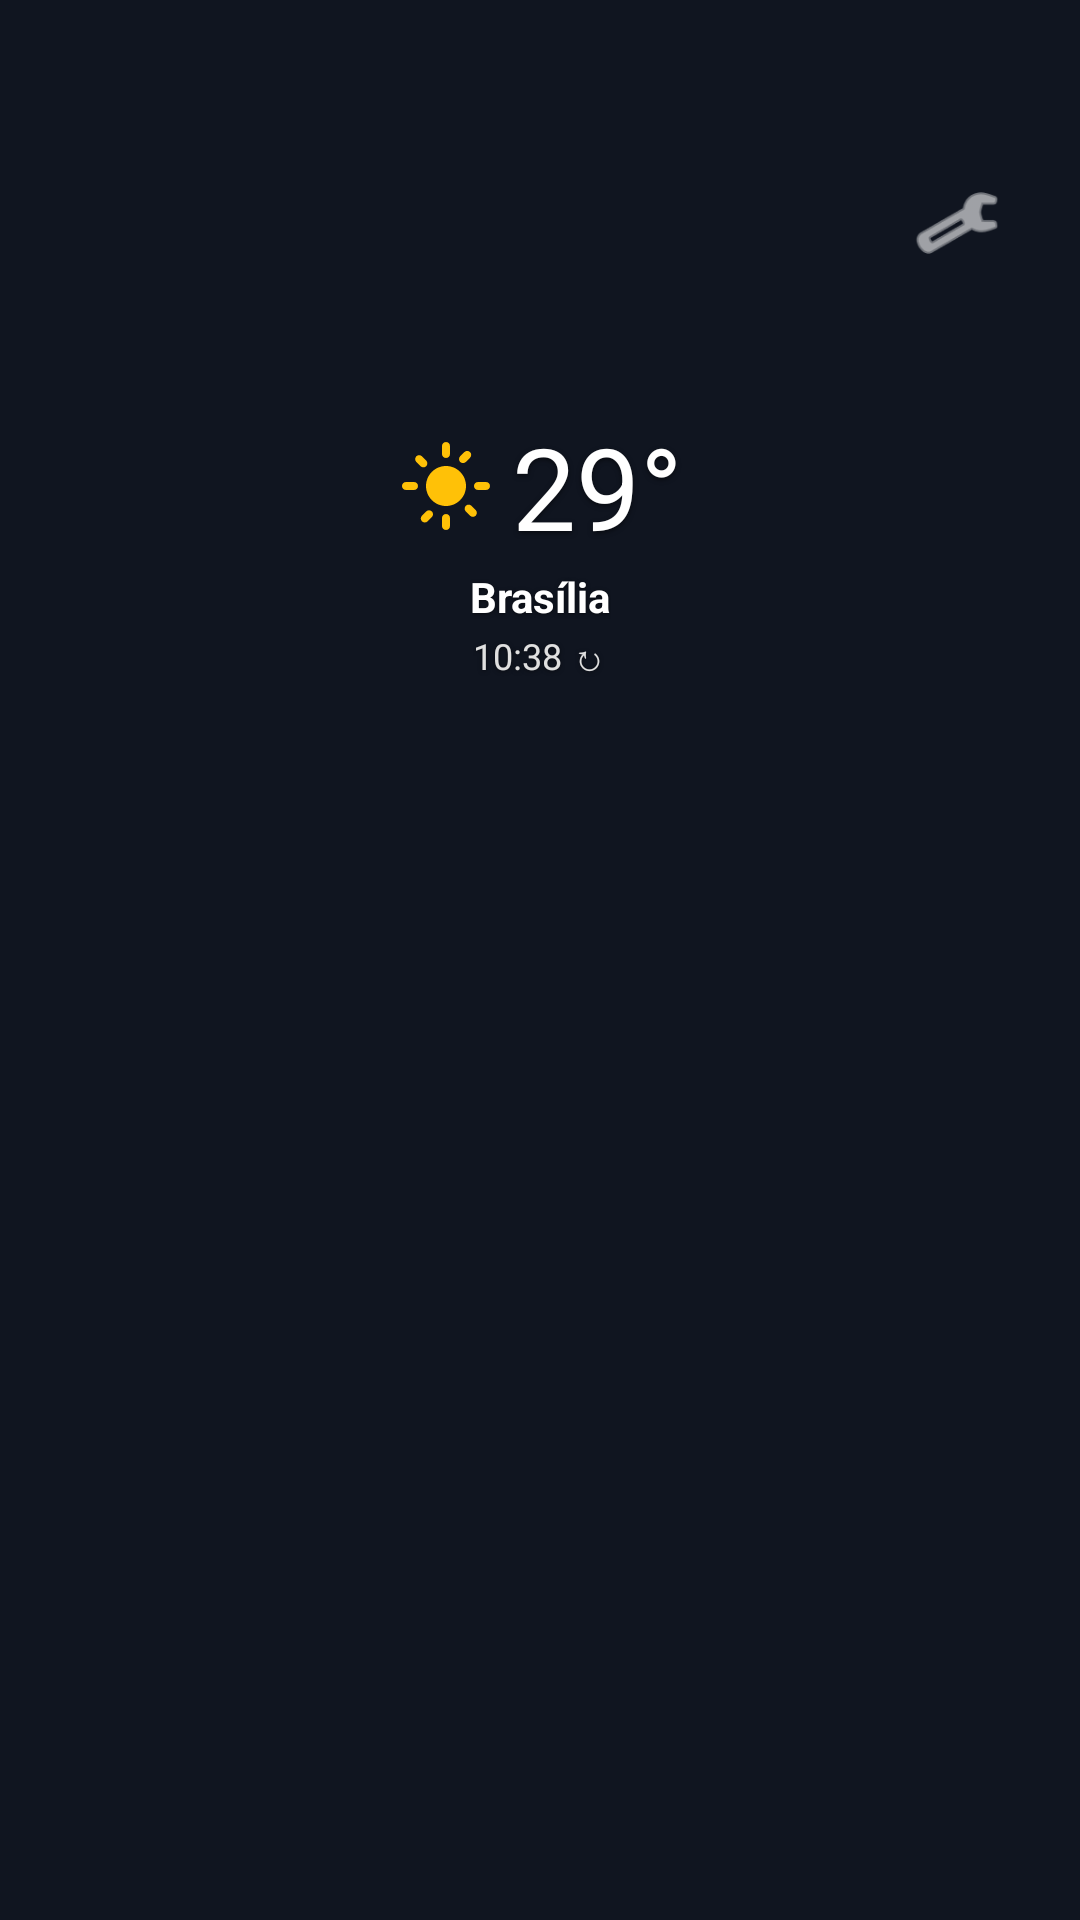

Icon click points for this 1080 x 1920 phone screenshot, format (x,y):
Painel de Administração TI: (957,223)
Previsão do Tempo: (446,486)
